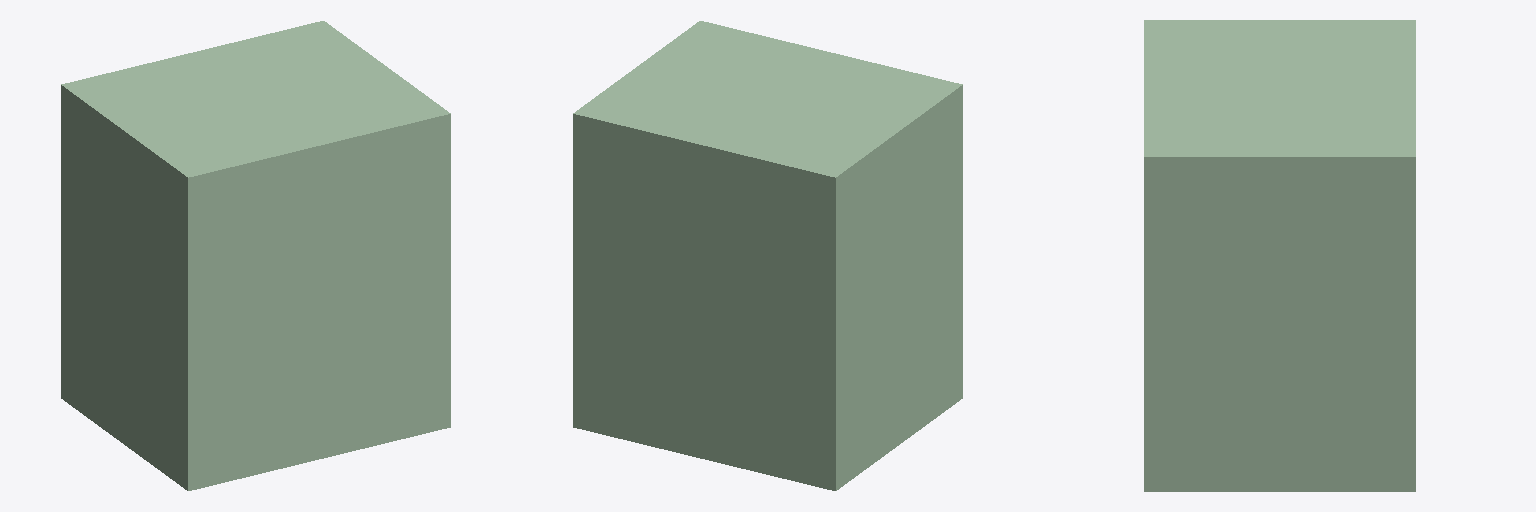
URDF robot description (box.urdf):
<?xml version="1.0" ?>
<robot name="box.urdf">
  <link name="baseLink">
    <contact>
      <lateral_friction value="1.0"/>
      <rolling_friction value="0.0001"/>
      <inertia_scaling value="3.0"/>
    </contact>
    <inertial>
      <origin rpy="0 0 0" xyz="0 0 0"/>
       <mass value="0.1"/>
       <inertia ixx="1" ixy="0" ixz="0" iyy="1" iyz="0" izz="1"/>
    </inertial>
    <visual>
      <origin rpy="0 0 0" xyz="0 0 0"/>
      <geometry>
        <!-- <box size="0.242 0.203 0.276"/> -->
        <mesh filename="box/box.obj" scale="0.242 0.203 0.276"/>
      </geometry>
      <material name="white">
        <color rgba="0.7 0.8 0.7 1"/>
      </material>
    </visual>
    <collision>
      <origin rpy="0 0 0" xyz="0 0 0"/>
      <geometry>
        <mesh filename="box/box.obj" scale="0.242 0.203 0.276"/>
	 	    <!-- <box size="0.242 0.203 0.276"/> -->
      </geometry>
    </collision>
  </link>
</robot>

--- Facts derived from the render (not from the file) ---
The picture shows the robot from 3 angles, left to right: view 1: azimuth 30°, elevation 25°; view 2: azimuth 150°, elevation 25°; view 3: azimuth 270°, elevation 25°; orthographic projection.
Robot: box.urdf — 1 links, 0 joints (none); root link baseLink; default pose: every joint at zero.
Visible links, largest first — view 1: baseLink; view 2: baseLink; view 3: baseLink.
Link boxes in pixels (x1,y1,x2,y2): baseLink: (61, 21, 450, 490); baseLink: (573, 21, 962, 490); baseLink: (1144, 20, 1415, 491).
Bounding box of the posed robot: 0.242 × 0.203 × 0.276 m (x, y, z).
Meshes: 1 distinct files referenced, 1 mesh visuals loaded (1 OBJ).
